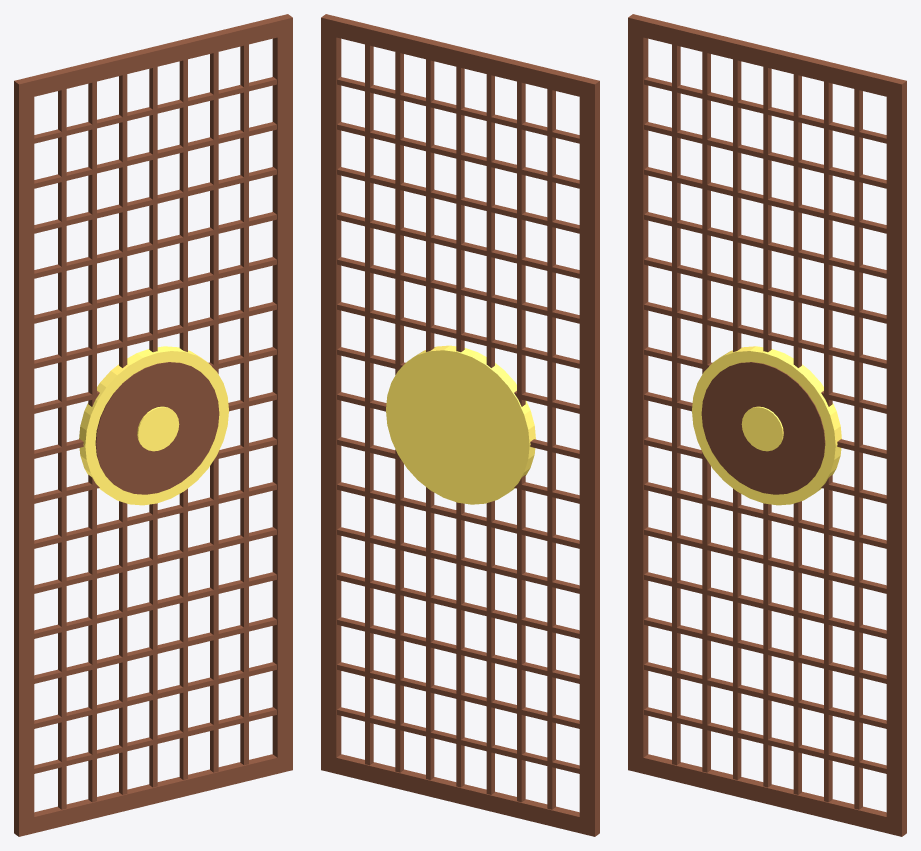
Rendered from wall_lattice_screen_3d.glb.
3 views of the same model, side by side, from view 1: azimuth 30°, elevation 25°; view 2: azimuth 150°, elevation 25°; view 3: azimuth 330°, elevation 25° (orthographic).
Parts seen in each view (by area): view 1: Cube.002, Cube.003, Cylinder.001, Cube.004, Cube.010, Cube.001, Cylinder, Cube, Cube.005, Cube.009, Cube.006, Cube.008 (+17 smaller); view 2: Cylinder, Cube.002, Cube.003, Cube.001, Cube.010, Cube.004, Cube, Cube.005, Cube.009, Cube.008, Cube.006, Cube.007 (+15 smaller); view 3: Cube.003, Cube.002, Cylinder.001, Cube.004, Cube.001, Cube.010, Cylinder, Cube, Cube.009, Cube.005, Cube.008, Cube.006 (+17 smaller).
Boxes of the visible parts, left/top/right/bottom form: Cube.002: left=14, top=97, right=34, bottom=820; Cube.003: left=272, top=34, right=292, bottom=757; Cylinder.001: left=95, top=362, right=219, bottom=494; Cube.004: left=58, top=89, right=66, bottom=809; Cube.010: left=240, top=44, right=248, bottom=765; Cube.001: left=14, top=14, right=292, bottom=100; Cylinder: left=79, top=346, right=228, bottom=505; Cube: left=14, top=754, right=292, bottom=836; Cube.005: left=88, top=81, right=96, bottom=802; Cube.009: left=210, top=52, right=218, bottom=772; Cube.006: left=119, top=74, right=127, bottom=794; Cube.008: left=179, top=59, right=187, bottom=779; Cylinder: left=386, top=345, right=535, bottom=504; Cube.002: left=579, top=97, right=599, bottom=820; Cube.003: left=321, top=34, right=341, bottom=757; Cube.001: left=321, top=14, right=599, bottom=100; Cube.010: left=365, top=44, right=373, bottom=765; Cube.004: left=547, top=89, right=555, bottom=809; Cube: left=321, top=754, right=599, bottom=836; Cube.005: left=517, top=81, right=525, bottom=802; Cube.009: left=395, top=52, right=403, bottom=772; Cube.008: left=426, top=59, right=434, bottom=779; Cube.006: left=486, top=74, right=494, bottom=794; Cube.007: left=456, top=67, right=464, bottom=787; Cube.003: left=886, top=97, right=906, bottom=820; Cube.002: left=628, top=34, right=648, bottom=757; Cylinder.001: left=701, top=362, right=825, bottom=494; Cube.004: left=672, top=44, right=680, bottom=765; Cube.001: left=628, top=14, right=906, bottom=100; Cube.010: left=854, top=89, right=862, bottom=809; Cylinder: left=692, top=346, right=841, bottom=505; Cube: left=628, top=754, right=906, bottom=836; Cube.009: left=824, top=81, right=832, bottom=802; Cube.005: left=702, top=52, right=710, bottom=772; Cube.008: left=793, top=74, right=801, bottom=794; Cube.006: left=733, top=59, right=741, bottom=779.
Bounding box in the file's own units: 1.6 × 4.2 × 0.08.
